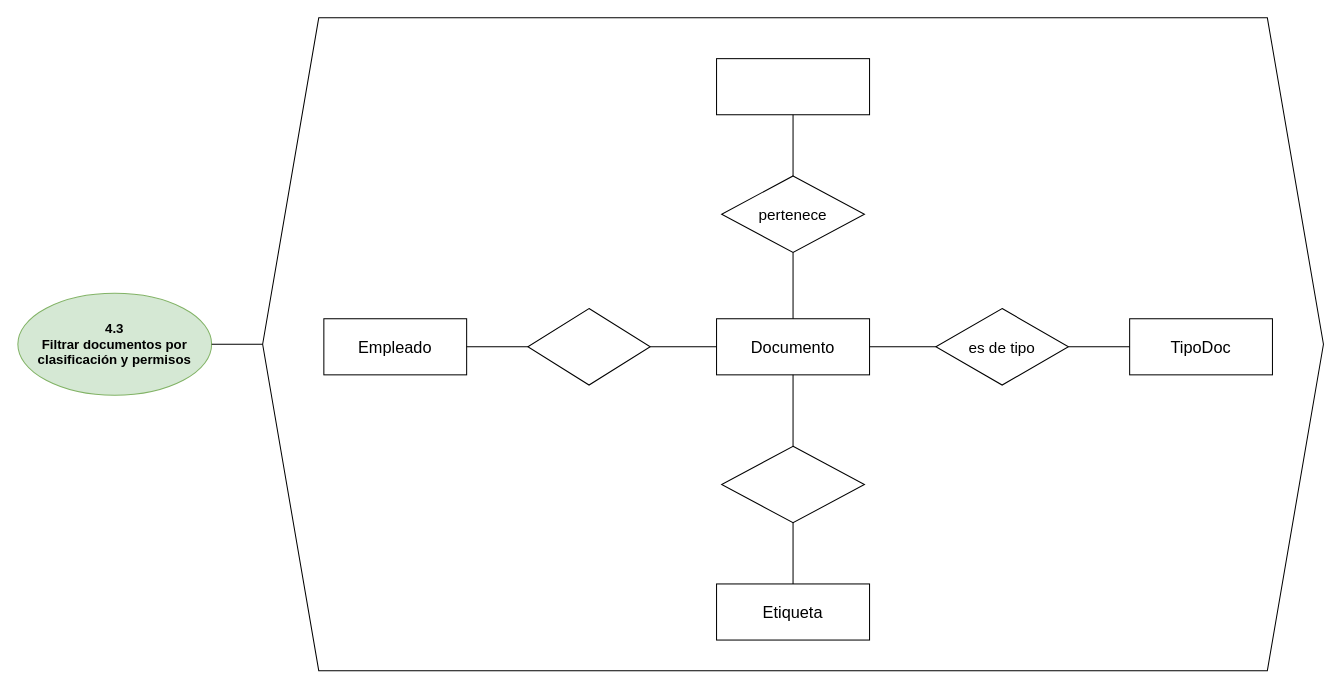
This 1341x689 diagram has some shape labels left out. The box of each missing label's shape, as (x1, y1, x2, y2) in pixels:
Categoría: (716, 58, 870, 115)
crea: (527, 308, 650, 385)
etiquetado: (721, 445, 864, 523)
